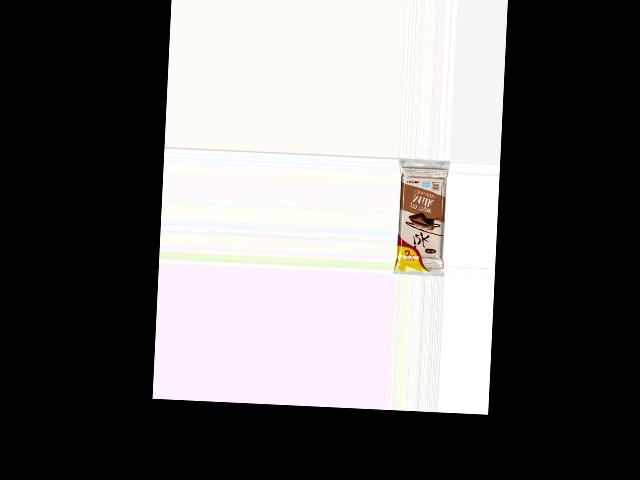chocolate: (393, 169, 450, 276)
